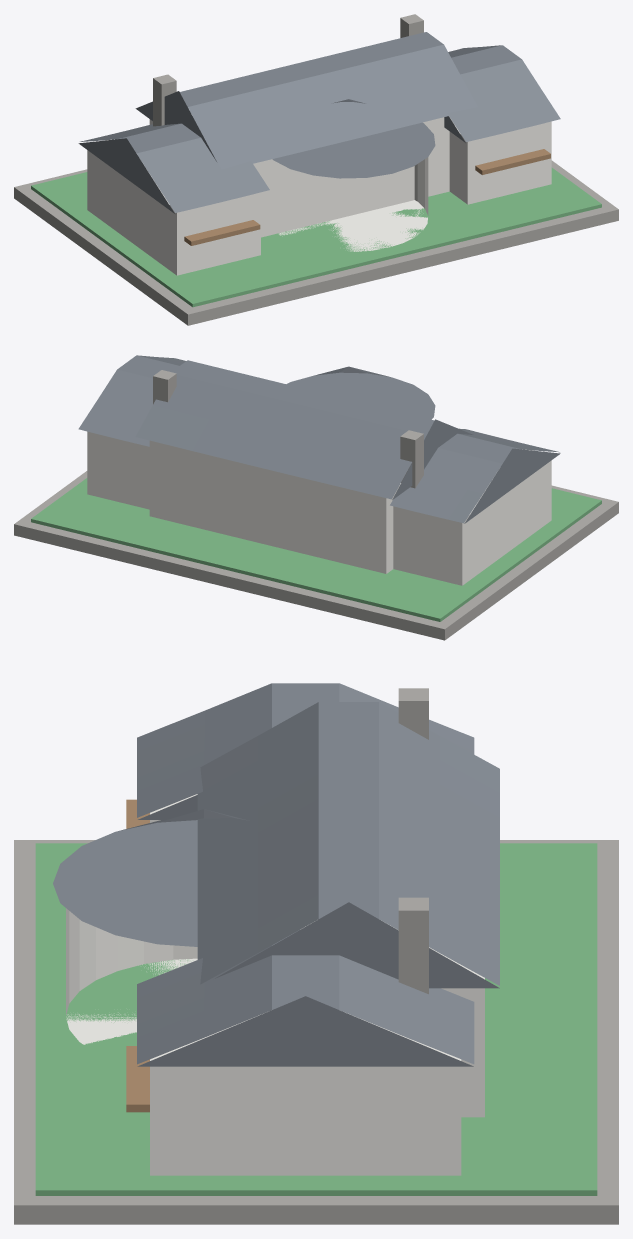
The model's file is lm_92_sam_tuyen_lam_golf_club_swiss_alpine_clubhouse.glb.
3 renders of one model, top to bottom at view 1: azimuth 30°, elevation 25°; view 2: azimuth 150°, elevation 25°; view 3: azimuth 270°, elevation 25°, orthographic. The views are drawn at different scales.
Visible parts, largest first — view 1: lm_92_sam_tuyen_lam_golf_club_swiss_alpine_clubhouse; view 2: lm_92_sam_tuyen_lam_golf_club_swiss_alpine_clubhouse; view 3: lm_92_sam_tuyen_lam_golf_club_swiss_alpine_clubhouse.
Boxes of the visible parts, x1,y1,x2,y2 form: lm_92_sam_tuyen_lam_golf_club_swiss_alpine_clubhouse: (14, 14, 618, 325); lm_92_sam_tuyen_lam_golf_club_swiss_alpine_clubhouse: (14, 355, 618, 640); lm_92_sam_tuyen_lam_golf_club_swiss_alpine_clubhouse: (14, 683, 618, 1224).
Bounding box in the file's own units: 40 × 12.7 × 28.
